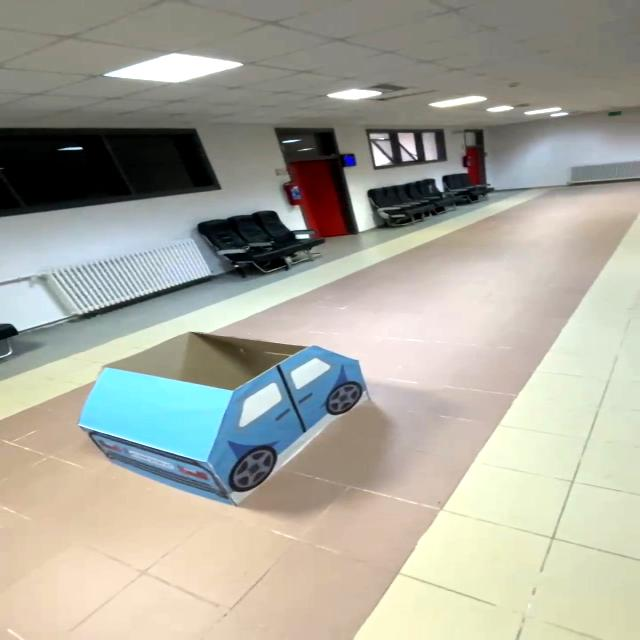blue_car: (51, 294, 441, 542)
